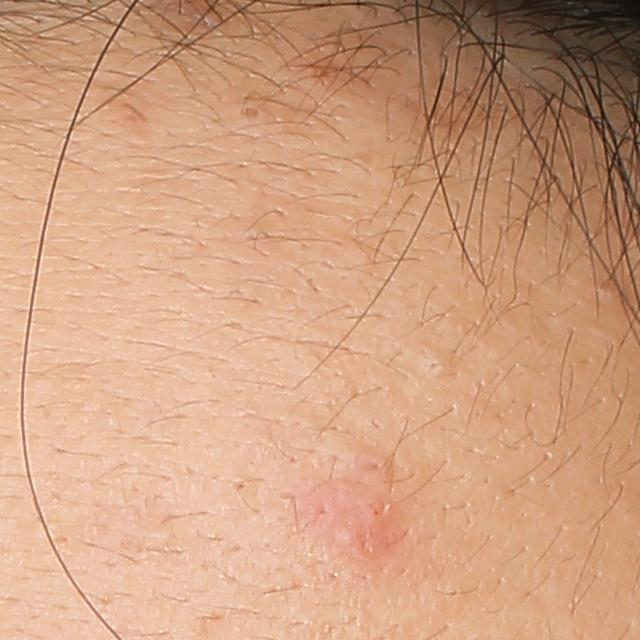comedo: (417, 347, 456, 379)
papule: (323, 480, 397, 560)
